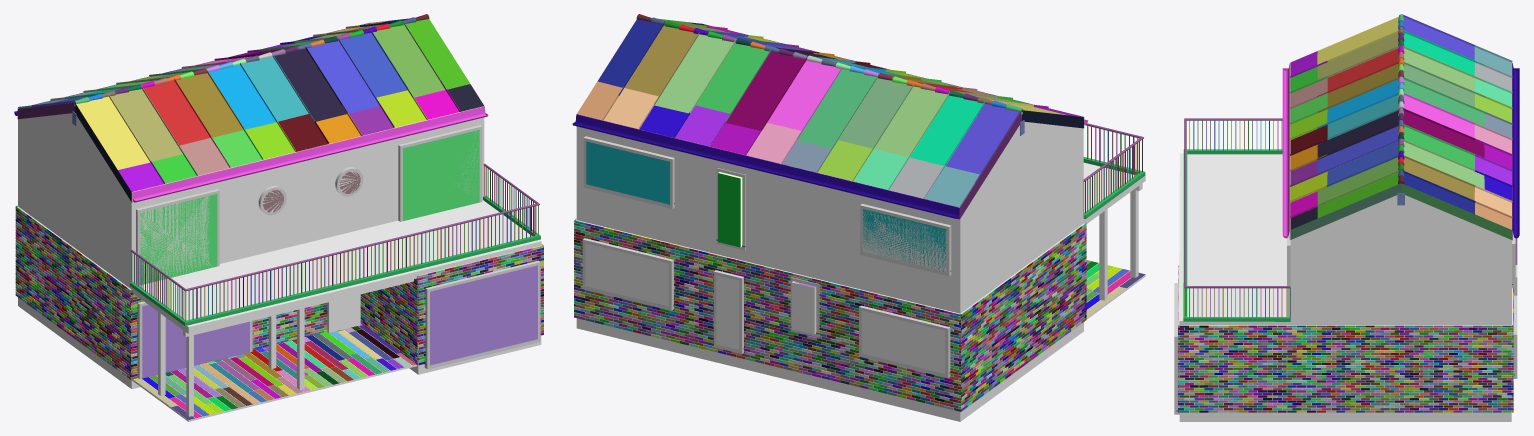
Rendered from Seaside-House.fbx.
3 renders of one model, left to right at view 1: azimuth 30°, elevation 25°; view 2: azimuth 150°, elevation 25°; view 3: azimuth 270°, elevation 25°, orthographic. The views are drawn at different scales.
Visible parts, largest first — view 1: Roof.002, Wall.027, Wall.020, Slab.005, AutoBoolean.008, AutoBoolean.013, Floor.001, Fence.001, hole.020, Slab.006, Slab.004, Window.013 (+8 smaller); view 2: Roof.002, Wall.027, Wall.020, AutoBoolean.013, Slab.004, hole.017, hole.018, hole.025, Fence.001, Slab.005, hole.026, Floor.001 (+9 smaller); view 3: Roof.002, Wall.020, Wall.027, Slab.005, Fence.001, Slab.004, Window.013, Window.017.
Part boxes in pixels (x1=…): Roof.002: x1=14, y1=14, x2=488, y2=202; Wall.027: x1=18, y1=113, x2=484, y2=288; Wall.020: x1=15, y1=205, x2=543, y2=379; Slab.005: x1=18, y1=200, x2=541, y2=333; AutoBoolean.008: x1=142, y1=265, x2=537, y2=378; AutoBoolean.013: x1=140, y1=130, x2=479, y2=284; Floor.001: x1=133, y1=323, x2=416, y2=419; Fence.001: x1=130, y1=163, x2=540, y2=325; hole.020: x1=140, y1=196, x2=213, y2=283; Slab.006: x1=132, y1=325, x2=417, y2=421; Slab.004: x1=18, y1=297, x2=541, y2=388; Window.013: x1=424, y1=260, x2=540, y2=369; Roof.002: x1=572, y1=14, x2=1087, y2=219; Wall.027: x1=576, y1=122, x2=1083, y2=312; Wall.020: x1=574, y1=219, x2=1086, y2=414; AutoBoolean.013: x1=586, y1=141, x2=946, y2=271; Slab.004: x1=576, y1=321, x2=1083, y2=421; hole.017: x1=585, y1=243, x2=668, y2=306; hole.018: x1=862, y1=310, x2=945, y2=373; hole.025: x1=863, y1=210, x2=946, y2=271; Fence.001: x1=1083, y1=123, x2=1145, y2=218; Slab.005: x1=576, y1=162, x2=1145, y2=313; hole.026: x1=716, y1=275, x2=739, y2=349; Floor.001: x1=1086, y1=260, x2=1145, y2=317; Roof.002: x1=1282, y1=14, x2=1519, y2=240; Wall.020: x1=1178, y1=265, x2=1513, y2=415; Wall.027: x1=1290, y1=195, x2=1511, y2=323; Slab.005: x1=1179, y1=153, x2=1511, y2=327; Fence.001: x1=1183, y1=118, x2=1290, y2=321; Slab.004: x1=1179, y1=415, x2=1511, y2=421; Window.013: x1=1174, y1=283, x2=1179, y2=414; Window.017: x1=1513, y1=295, x2=1517, y2=378.
Size of the model in its own units: 1085 by 720 by 937.
